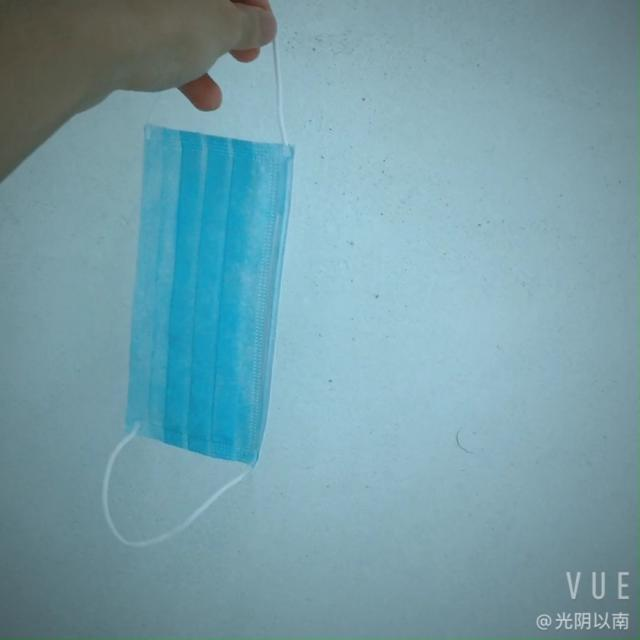non-organic waste: (117, 121, 296, 473)
